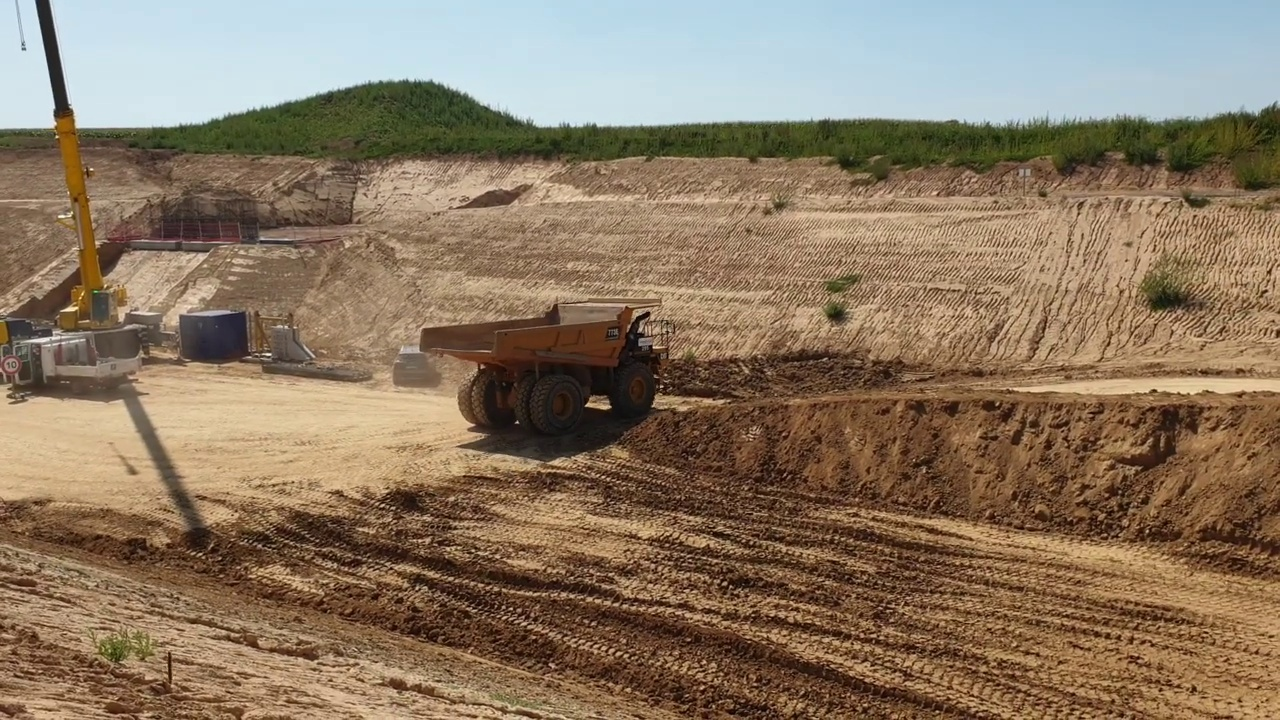crane: (1, 2, 153, 402)
truck: (419, 293, 674, 441)
